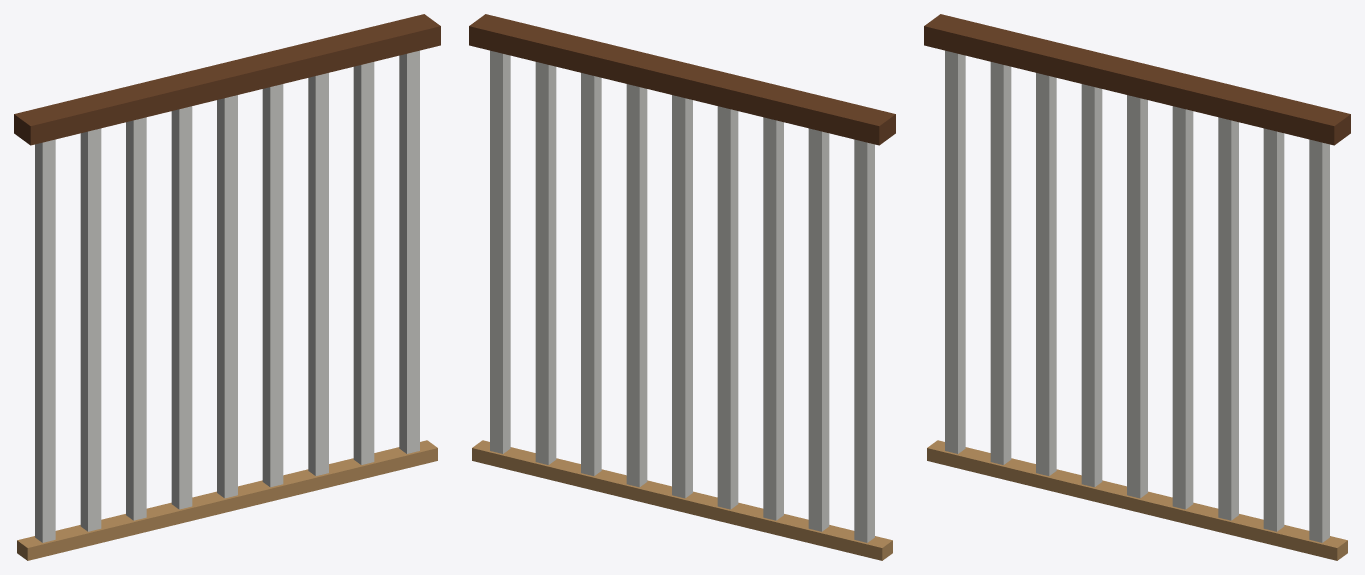
The model's file is circulation.balustrade.timber.glb.
3 views of the same model, side by side, from view 1: azimuth 30°, elevation 25°; view 2: azimuth 150°, elevation 25°; view 3: azimuth 330°, elevation 25° (orthographic).
Visible parts, largest first — view 1: main__paint_white, main__hardwood, main__softwood; view 2: main__paint_white, main__hardwood, main__softwood; view 3: main__paint_white, main__hardwood, main__softwood.
Boxes of the visible parts, <box> form: main__paint_white: <box>35,50,419,542</box>; main__hardwood: <box>14,14,440,145</box>; main__softwood: <box>17,440,437,560</box>; main__paint_white: <box>490,50,874,542</box>; main__hardwood: <box>469,14,895,145</box>; main__softwood: <box>472,440,892,560</box>; main__paint_white: <box>945,50,1329,542</box>; main__hardwood: <box>924,14,1350,145</box>; main__softwood: <box>927,440,1347,560</box>.
Size of the model in its own units: 1 by 1.02 by 0.07.
